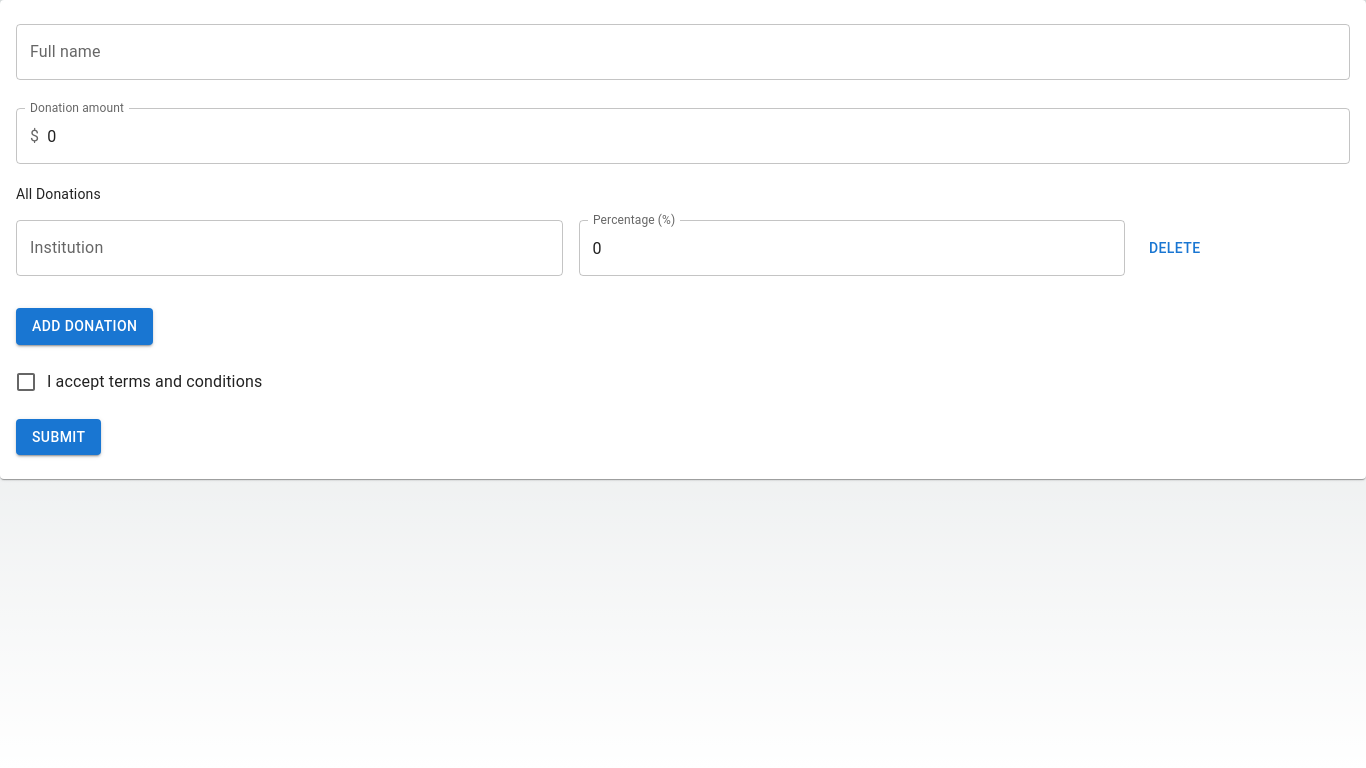
Test: Fieldarray form › Fullname field shows error if it's blank when submitting
The width and height of the screenshot is (1366, 768).
Click the button "Submit".
click(59, 437)  # box [16,418,101,455]
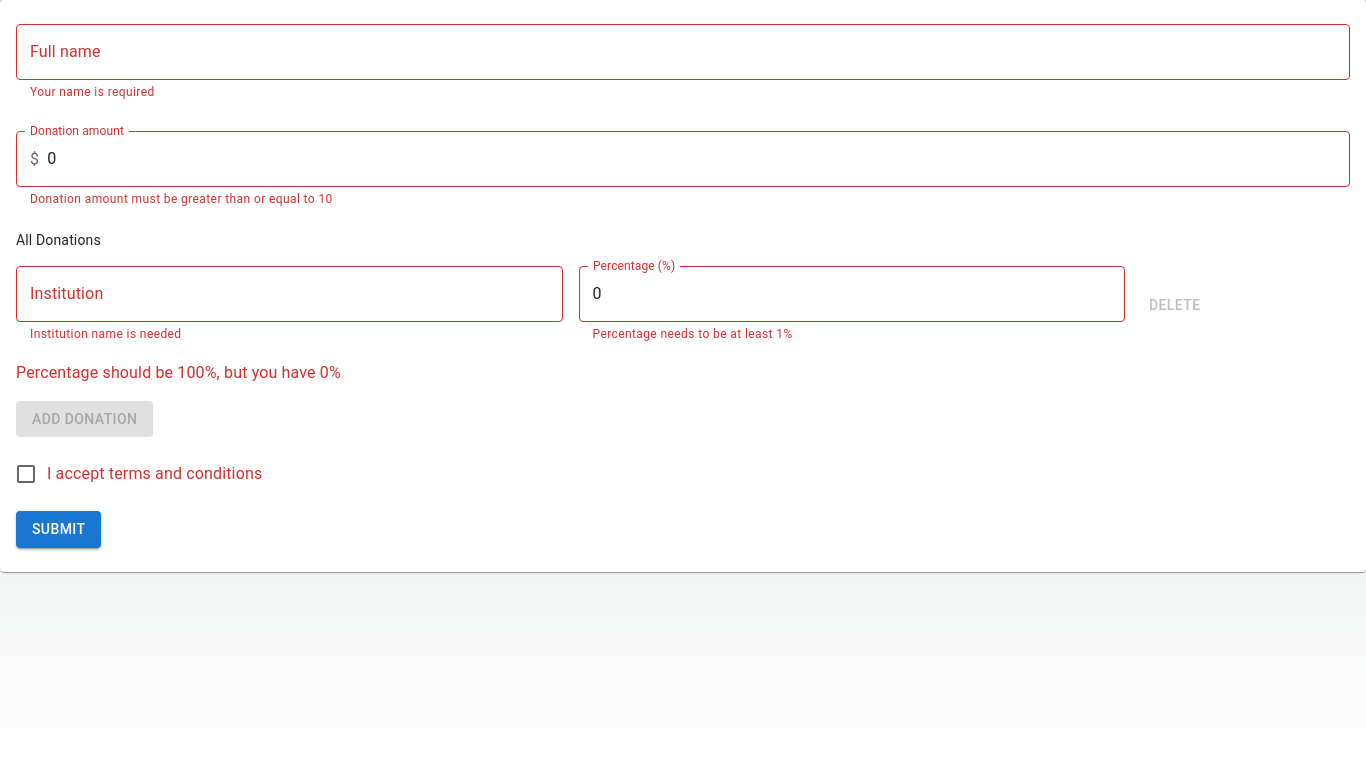
Now the text "Your name is required" is shown, box [30,85,155,99]
